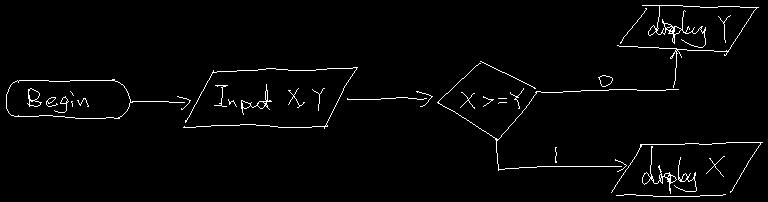arrow: (535, 49, 681, 92), (495, 138, 626, 171), (347, 91, 432, 106), (131, 96, 190, 109)
data: (183, 67, 357, 128), (611, 142, 762, 196), (617, 5, 758, 55)
decision: (437, 61, 537, 140)
terminator: (6, 79, 130, 118)
text: (642, 146, 724, 193), (648, 5, 730, 47), (214, 84, 324, 114), (27, 88, 88, 112), (460, 88, 523, 108), (598, 75, 612, 86), (554, 147, 557, 162)
